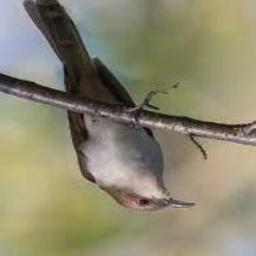Cuckoo: (26, 0, 195, 211)
